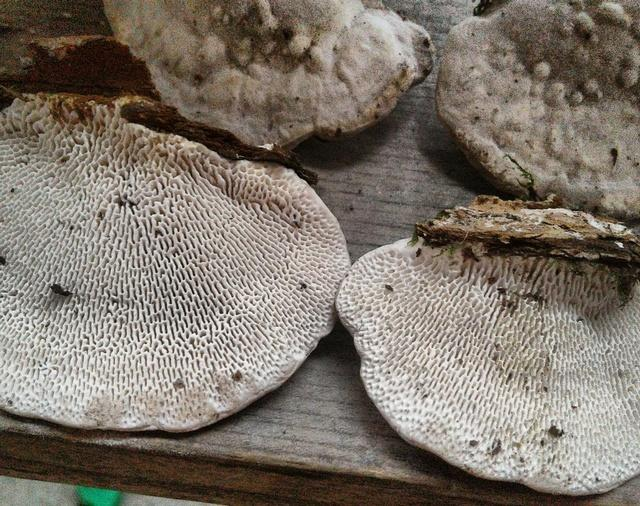Non-edible Mushroom: (0, 68, 354, 435), (333, 190, 640, 506), (101, 0, 434, 151), (434, 0, 638, 222)
